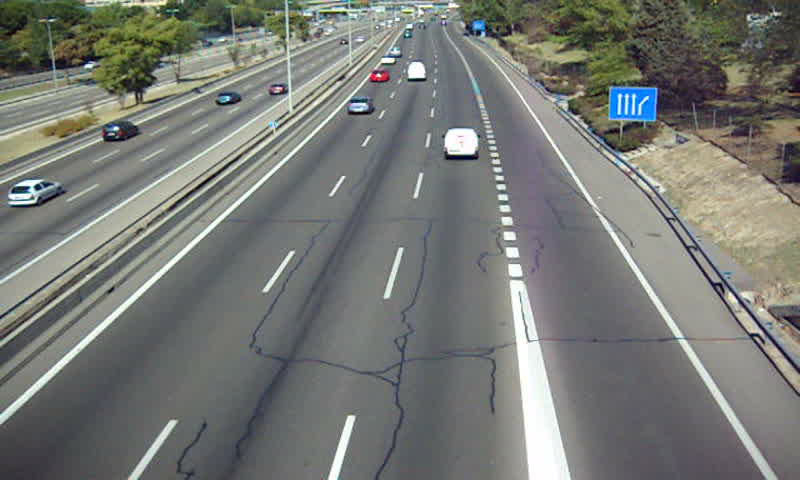car: (346, 97, 373, 116), (370, 70, 391, 84)
van: (444, 128, 479, 161), (407, 62, 426, 83)
